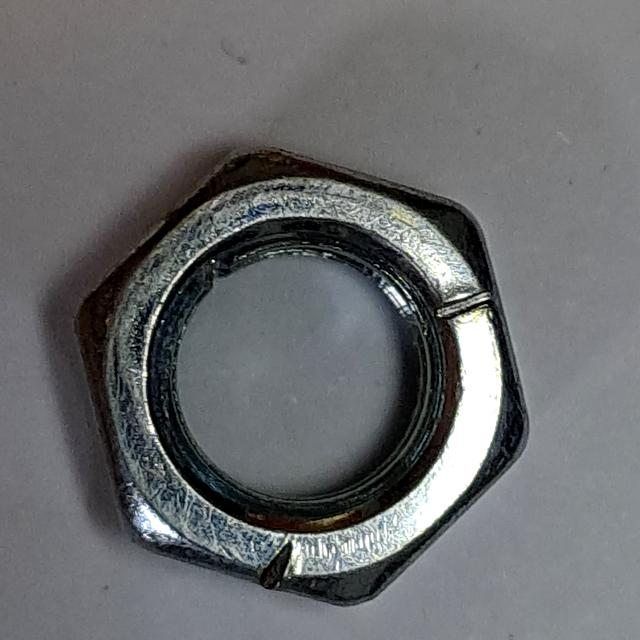Scratches: (59, 130, 544, 626)
